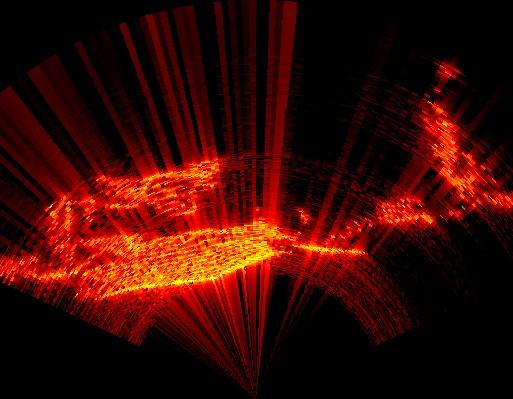shipwreck: (0, 216, 366, 298), (421, 100, 512, 209), (96, 161, 219, 214), (340, 195, 460, 238)
